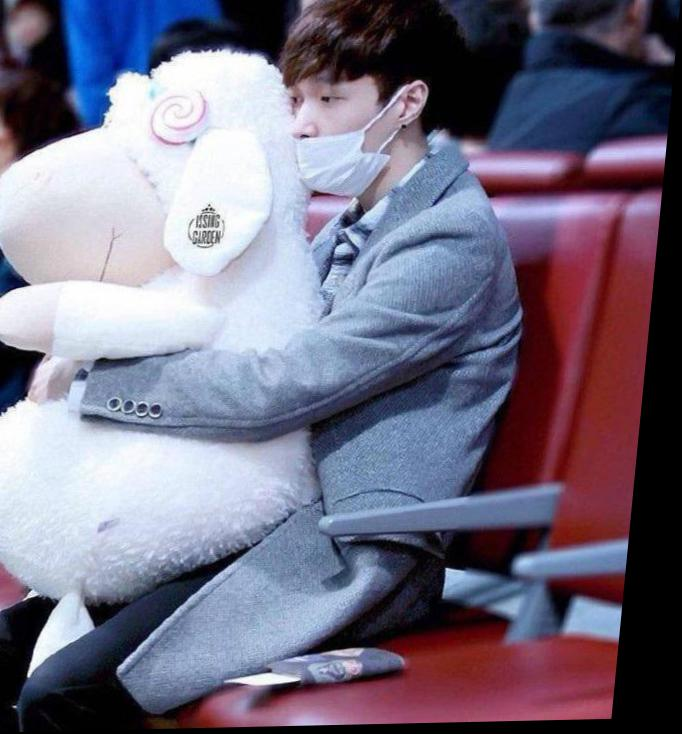WRONG: (283, 67, 391, 204)
